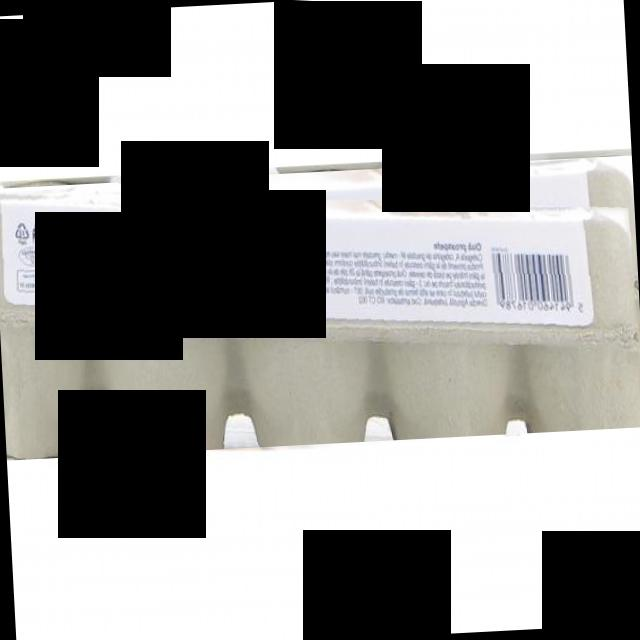eggs: (0, 155, 640, 460)
